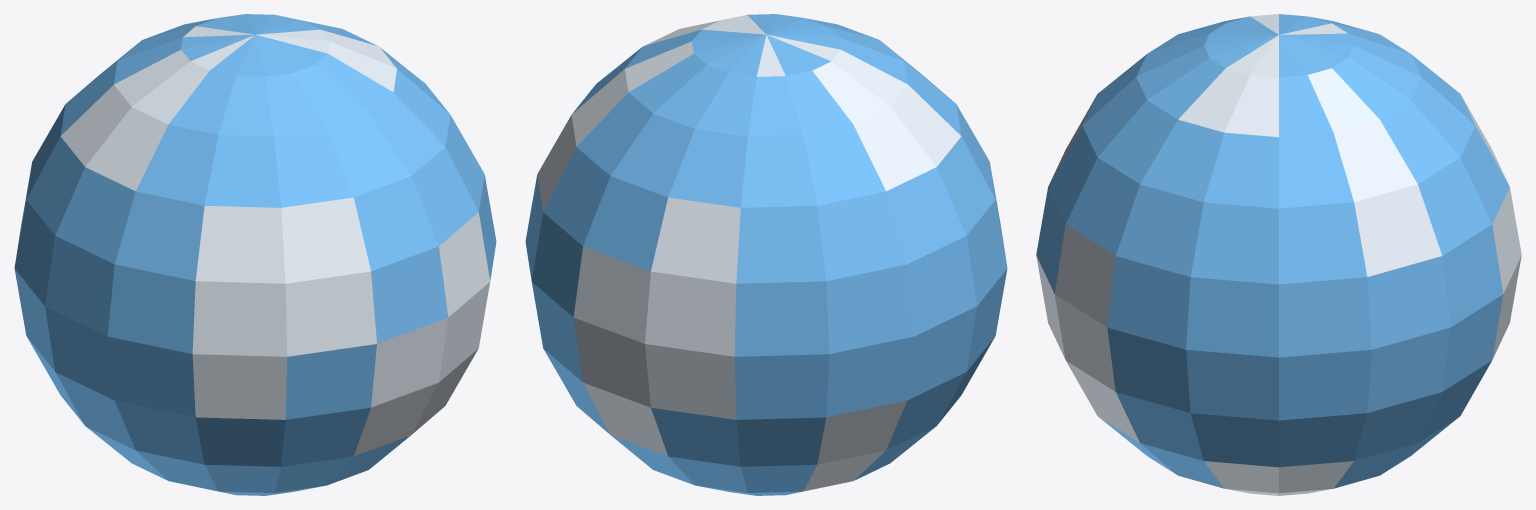
File: lightning_ball.glb
3 views of the same model, side by side, from view 1: azimuth 30°, elevation 25°; view 2: azimuth 150°, elevation 25°; view 3: azimuth 270°, elevation 25° (orthographic).
Parts seen in each view (by area): view 1: lightning_ball; view 2: lightning_ball; view 3: lightning_ball.
Part boxes in pixels (x1,y1,x2,y2): lightning_ball: [14, 14, 496, 495]; lightning_ball: [525, 14, 1007, 495]; lightning_ball: [1036, 14, 1521, 495].
Size of the model in its own units: 0.7 by 0.7 by 0.7.
Materials: 1 (1 with a texture image).
